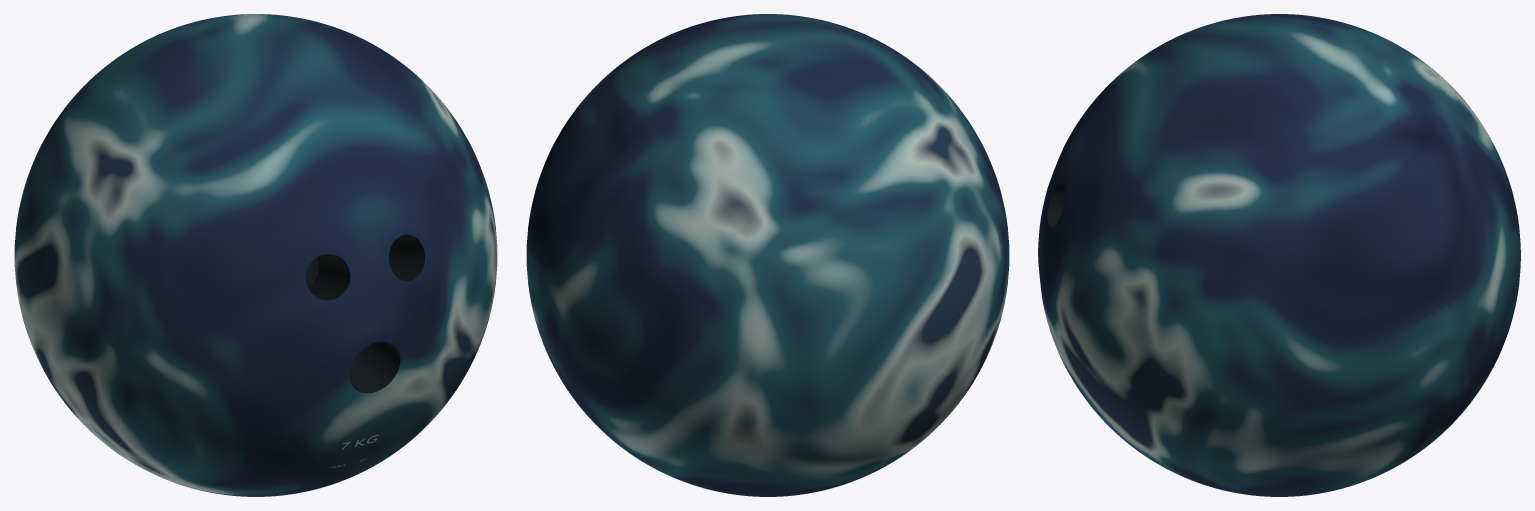
Rendered from bowling-ball.glb.
3 renders of one model, left to right at view 1: azimuth 30°, elevation 25°; view 2: azimuth 150°, elevation 25°; view 3: azimuth 270°, elevation 25°, orthographic.
Visible parts, largest first — view 1: bowling-ball; view 2: bowling-ball; view 3: bowling-ball.
Boxes of the visible parts, x1,y1,x2,y2 form: bowling-ball: [14, 14, 497, 496]; bowling-ball: [526, 14, 1009, 496]; bowling-ball: [1038, 14, 1520, 496].
Bounding box in the file's own units: 0.56 × 0.56 × 0.56.
Materials: 3 (3 with a texture image).
